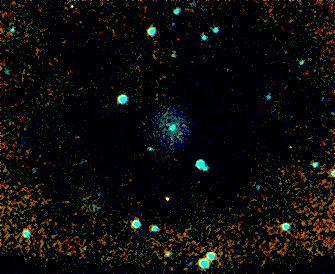star: (155, 176, 185, 206)
